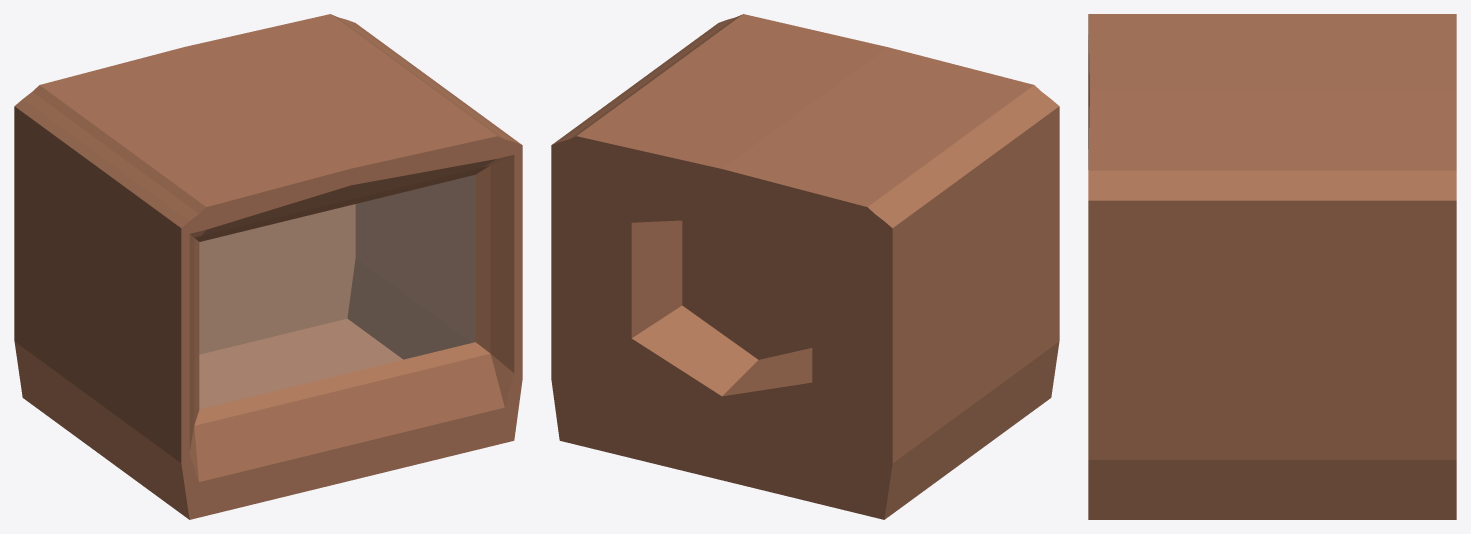
Rendered from Tele.fbx.
3 views of the same model, side by side, from view 1: azimuth 30°, elevation 25°; view 2: azimuth 150°, elevation 25°; view 3: azimuth 270°, elevation 25° (orthographic). The views are drawn at different scales.
Visible parts, largest first — view 1: Tele; view 2: Tele; view 3: Tele.
Part boxes in pixels (bbox=[...]): Tele: bbox=[14, 14, 522, 519]; Tele: bbox=[551, 14, 1059, 519]; Tele: bbox=[1088, 14, 1456, 519].
Bounding box in the file's own units: 70.97 × 61.9 × 60.14.
